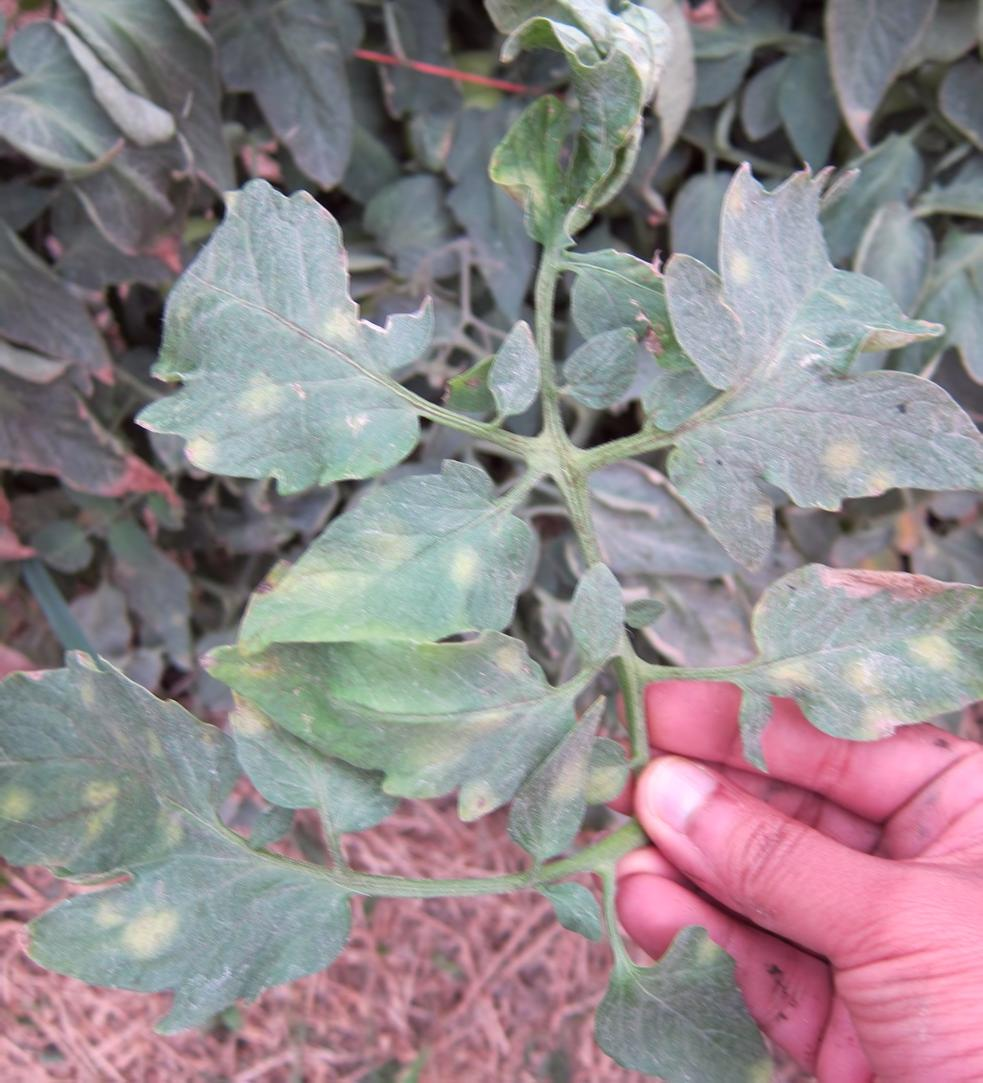Tomato mold leaf: (658, 149, 983, 555), (131, 182, 447, 498), (218, 460, 527, 745), (186, 654, 607, 857), (0, 848, 406, 1033), (0, 631, 245, 883), (738, 523, 983, 762), (475, 0, 675, 244), (577, 917, 792, 1083)
